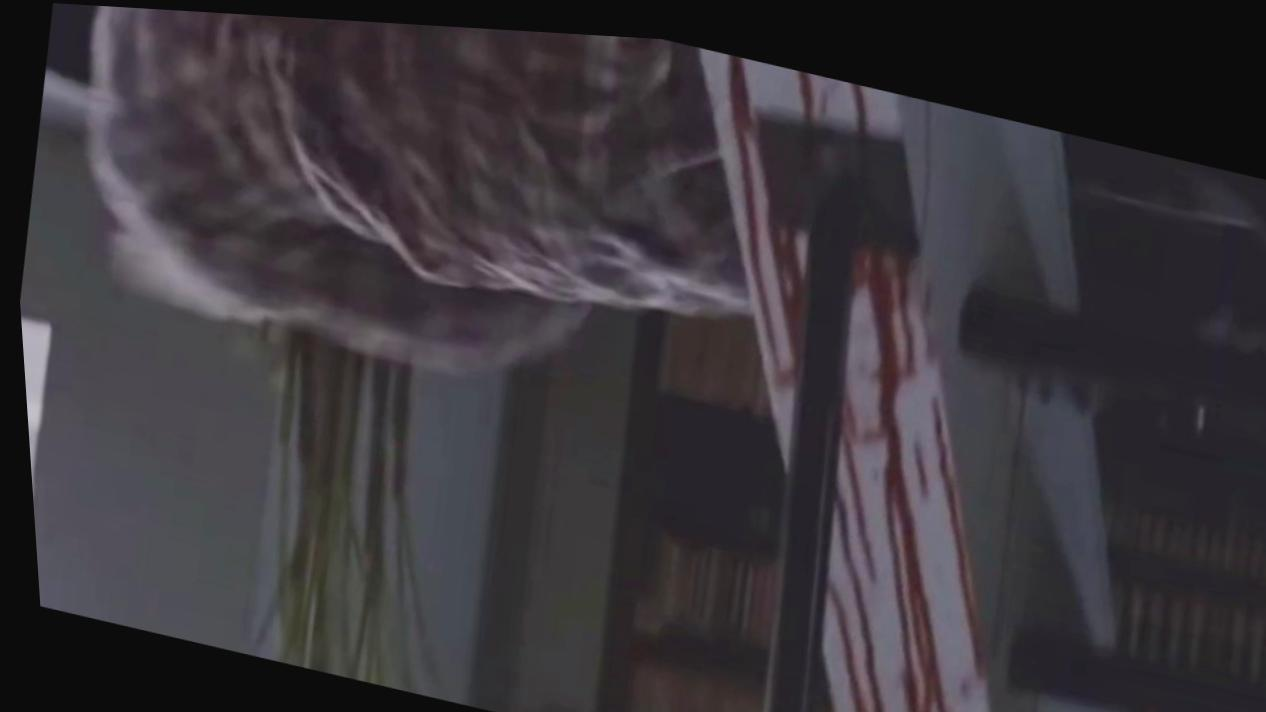Fire: (693, 37, 1036, 712)
